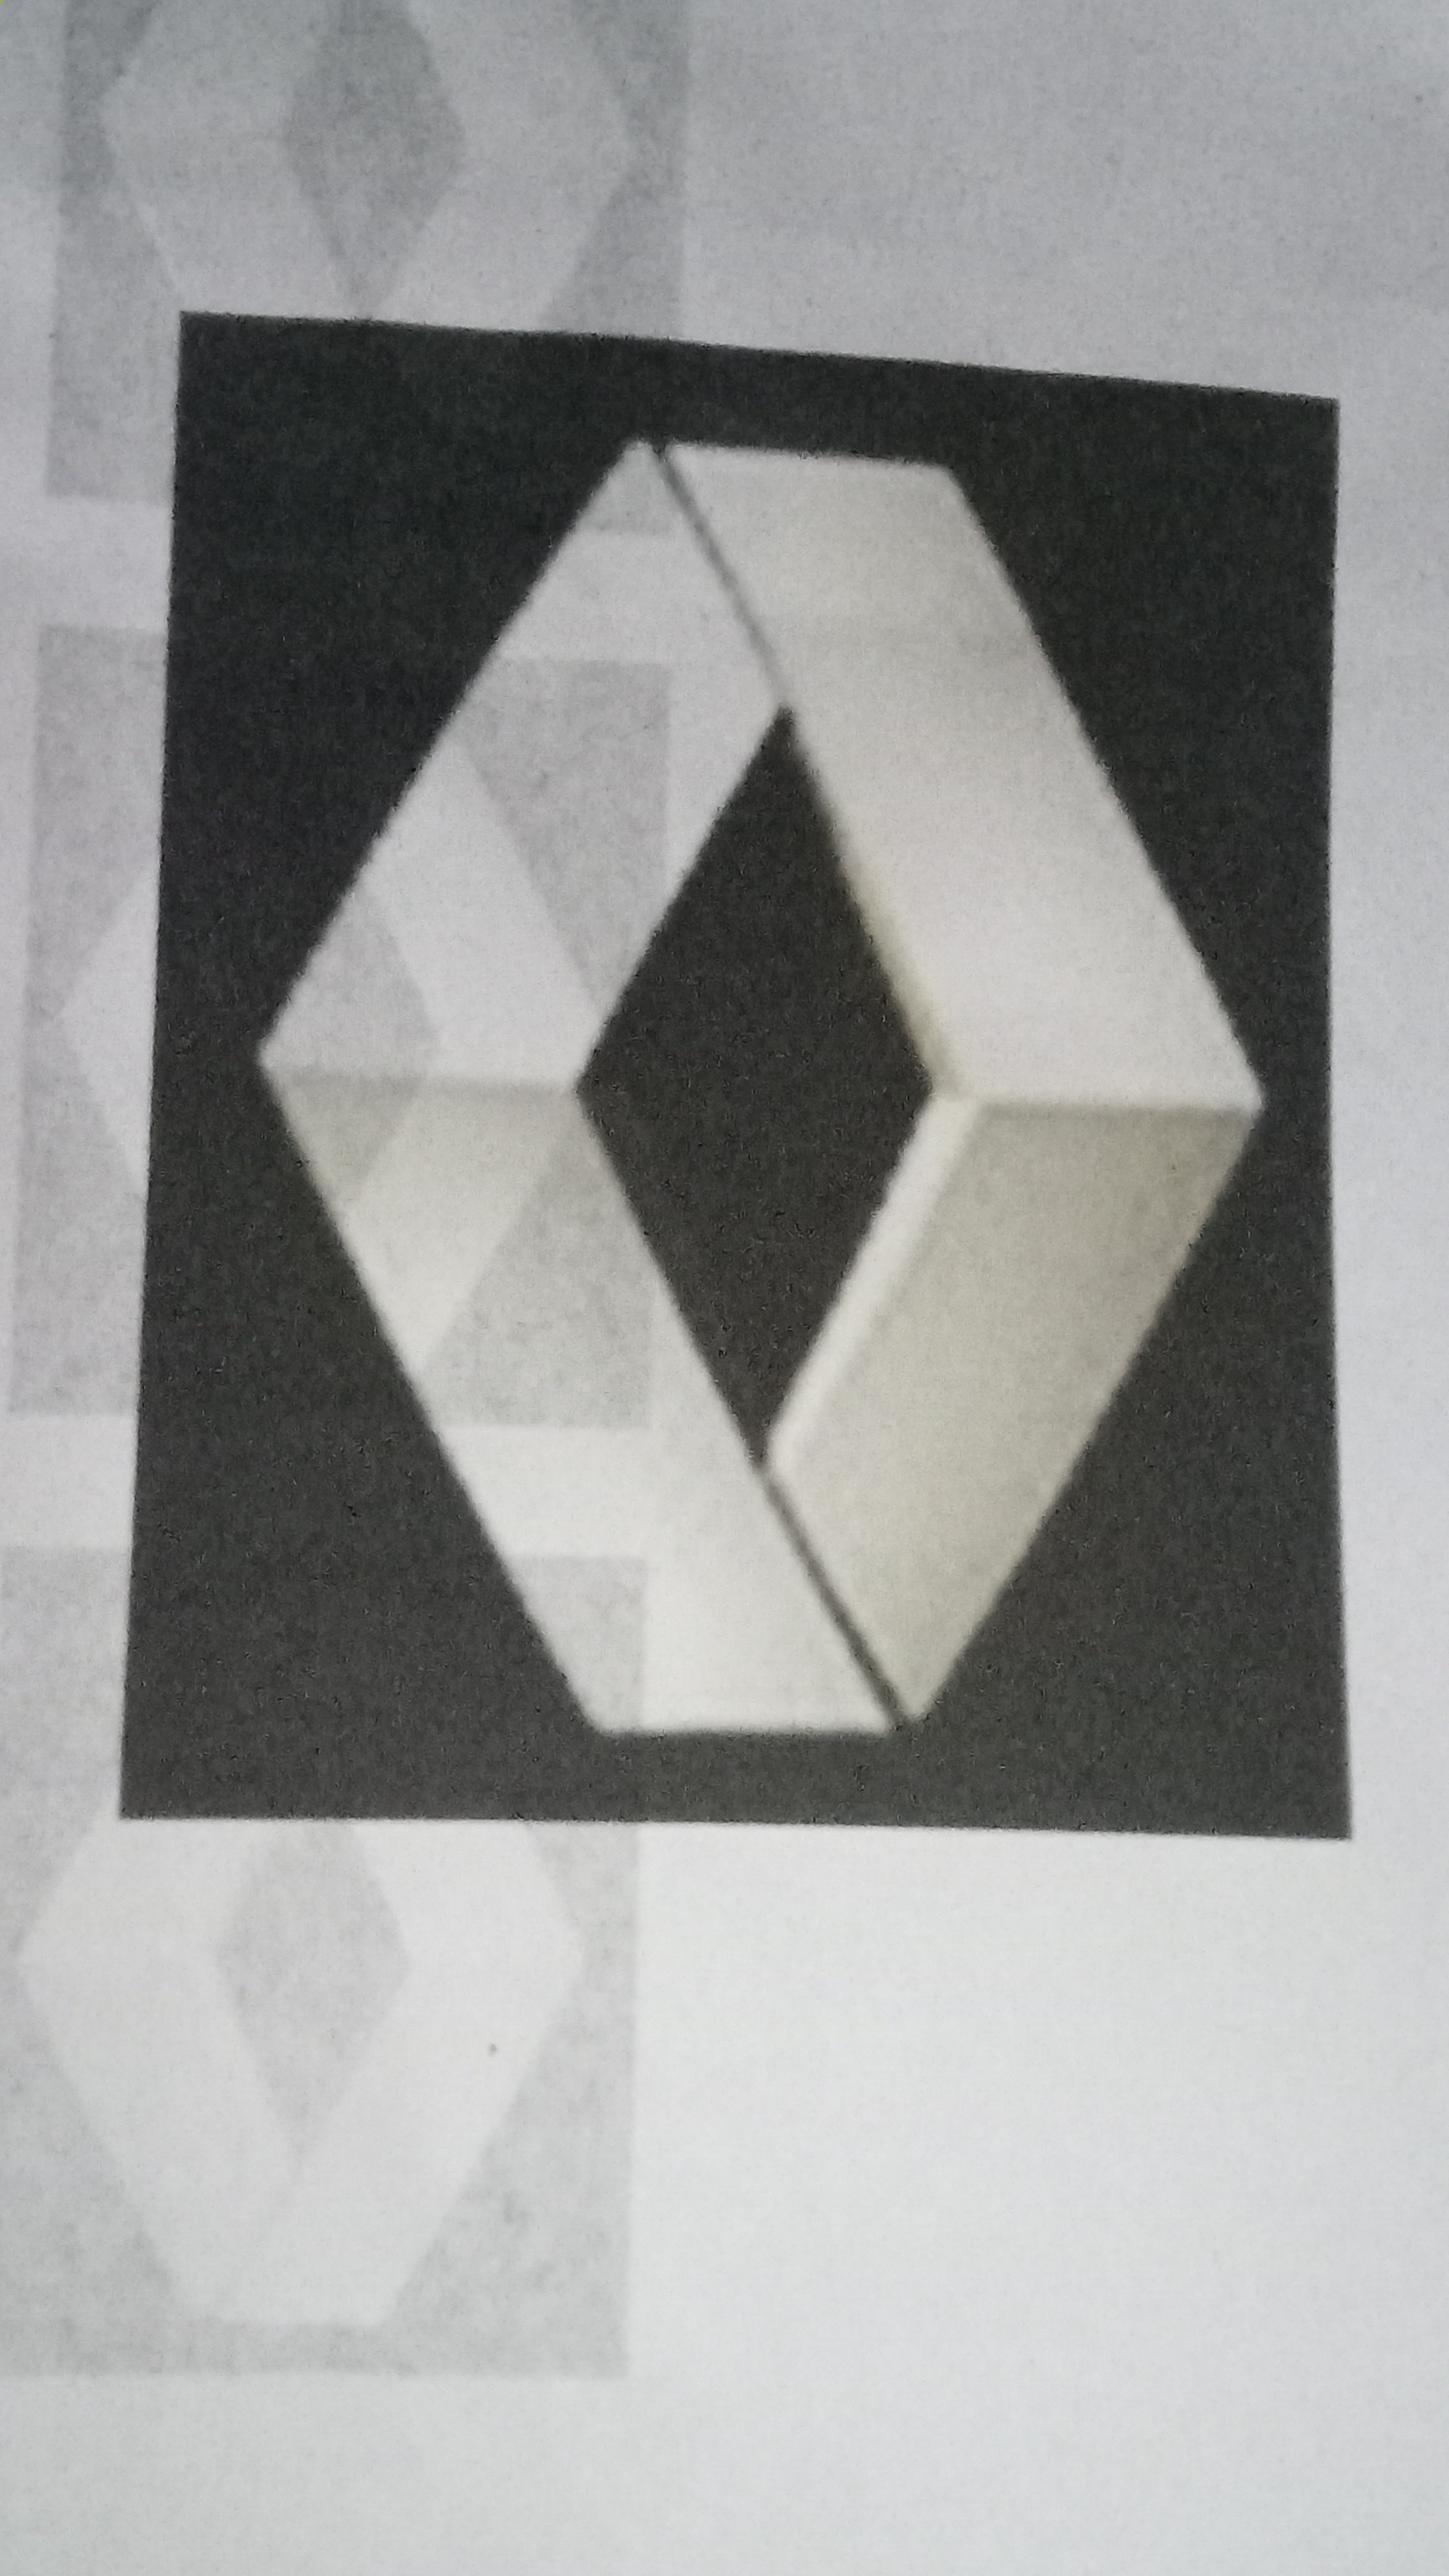Renault: (198, 387, 1311, 1810)
